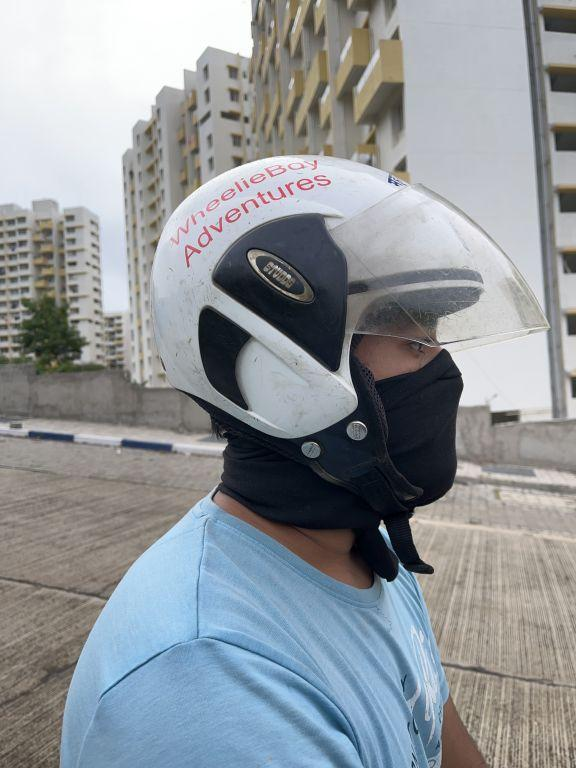helmet: (130, 142, 554, 541)
